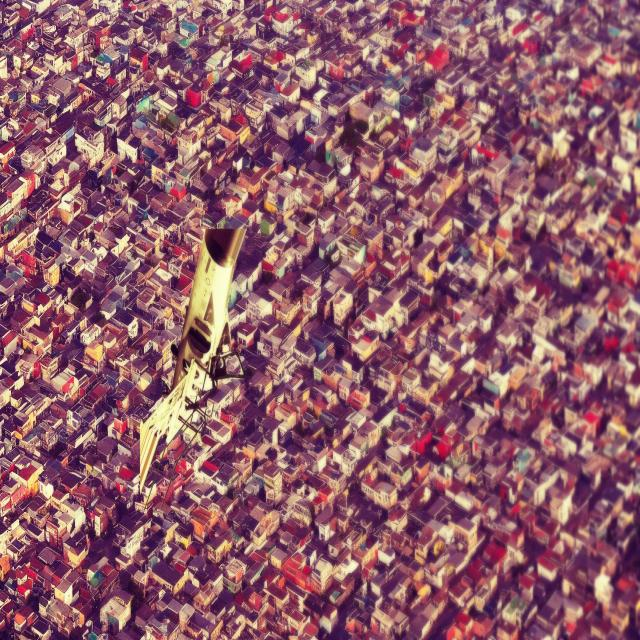airplane: (136, 222, 248, 496)
